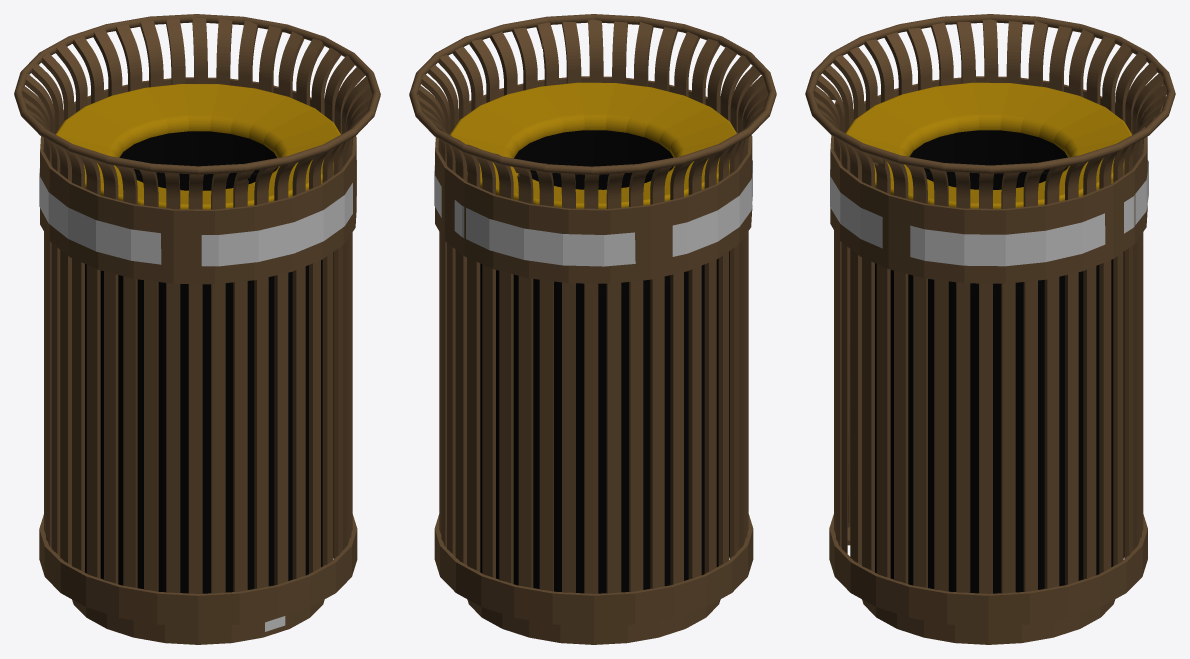
3 renders of one model, left to right at view 1: azimuth 30°, elevation 25°; view 2: azimuth 150°, elevation 25°; view 3: azimuth 270°, elevation 25°, orthographic.
Visible parts, largest first — view 1: mesh73.002_mesh73-geometry, mesh105.001_mesh105-geometry, mesh94.002_mesh94-geometry, mesh102.001_mesh102-geometry, mesh103.001_mesh103-geometry, mesh135.001_mesh135-geometry, mesh104.001_mesh104-geometry, mesh142.001_mesh142-geometry, mesh133.001_mesh133-geometry, mesh144.001_mesh144-geometry, mesh131.001_mesh131-geometry, mesh141.001_mesh141-geometry (+41 smaller); view 2: mesh73.002_mesh73-geometry, mesh105.001_mesh105-geometry, mesh94.002_mesh94-geometry, mesh102.001_mesh102-geometry, mesh103.001_mesh103-geometry, mesh148.001_mesh148-geometry, mesh111.001_mesh111-geometry, mesh115.001_mesh115-geometry, mesh132.001_mesh132-geometry, mesh106.001_mesh106-geometry, mesh137.001_mesh137-geometry, mesh143.001_mesh143-geometry (+40 smaller); view 3: mesh73.002_mesh73-geometry, mesh105.001_mesh105-geometry, mesh94.002_mesh94-geometry, mesh102.001_mesh102-geometry, mesh103.001_mesh103-geometry, mesh150.001_mesh150-geometry, mesh130.001_mesh130-geometry, mesh145.001_mesh145-geometry, mesh140.001_mesh140-geometry, mesh129.001_mesh129-geometry, mesh116.001_mesh116-geometry, mesh121.001_mesh121-geometry (+43 smaller).
Part boxes in pixels (box(x1,y1,x2,y2)): mesh73.002_mesh73-geometry: box(85, 131, 333, 593); mesh105.001_mesh105-geometry: box(40, 77, 356, 565); mesh94.002_mesh94-geometry: box(55, 84, 340, 209); mesh102.001_mesh102-geometry: box(39, 514, 357, 644); mesh103.001_mesh103-geometry: box(14, 14, 380, 174); mesh135.001_mesh135-geometry: box(211, 173, 229, 593); mesh104.001_mesh104-geometry: box(115, 165, 137, 587); mesh142.001_mesh142-geometry: box(233, 170, 254, 591); mesh133.001_mesh133-geometry: box(254, 166, 277, 588); mesh144.001_mesh144-geometry: box(139, 170, 158, 591); mesh131.001_mesh131-geometry: box(93, 159, 118, 583); mesh141.001_mesh141-geometry: box(164, 172, 180, 592); mesh73.002_mesh73-geometry: box(467, 130, 729, 593); mesh105.001_mesh105-geometry: box(435, 76, 752, 565); mesh94.002_mesh94-geometry: box(450, 82, 736, 208); mesh102.001_mesh102-geometry: box(434, 514, 753, 644); mesh103.001_mesh103-geometry: box(409, 14, 776, 174); mesh148.001_mesh148-geometry: box(454, 200, 635, 266); mesh111.001_mesh111-geometry: box(606, 173, 624, 593); mesh115.001_mesh115-geometry: box(513, 167, 533, 587); mesh132.001_mesh132-geometry: box(629, 170, 648, 591); mesh106.001_mesh106-geometry: box(650, 166, 672, 588); mesh137.001_mesh137-geometry: box(536, 163, 553, 591); mesh143.001_mesh143-geometry: box(584, 166, 599, 593); mesh73.002_mesh73-geometry: box(875, 130, 1124, 593); mesh105.001_mesh105-geometry: box(830, 19, 1147, 283); mesh94.002_mesh94-geometry: box(845, 82, 1132, 208); mesh102.001_mesh102-geometry: box(829, 514, 1147, 644); mesh103.001_mesh103-geometry: box(805, 14, 1175, 173); mesh150.001_mesh150-geometry: box(910, 213, 1105, 266); mesh130.001_mesh130-geometry: box(1044, 166, 1067, 588); mesh145.001_mesh145-geometry: box(1001, 172, 1019, 593); mesh140.001_mesh140-geometry: box(1023, 170, 1044, 591); mesh129.001_mesh129-geometry: box(929, 169, 948, 591); mesh116.001_mesh116-geometry: box(905, 164, 927, 587); mesh121.001_mesh121-geometry: box(954, 172, 970, 592).
Bounding box in the file's own units: 0.483 × 0.7271 × 0.4879.
